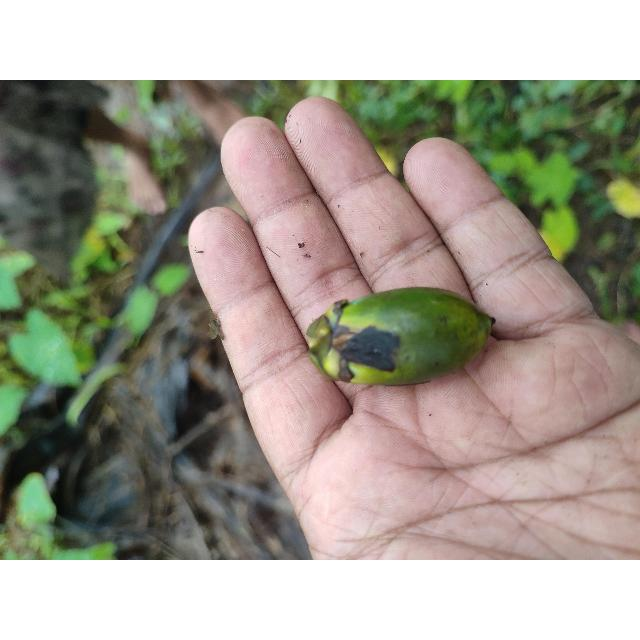good: (304, 288, 496, 388)
